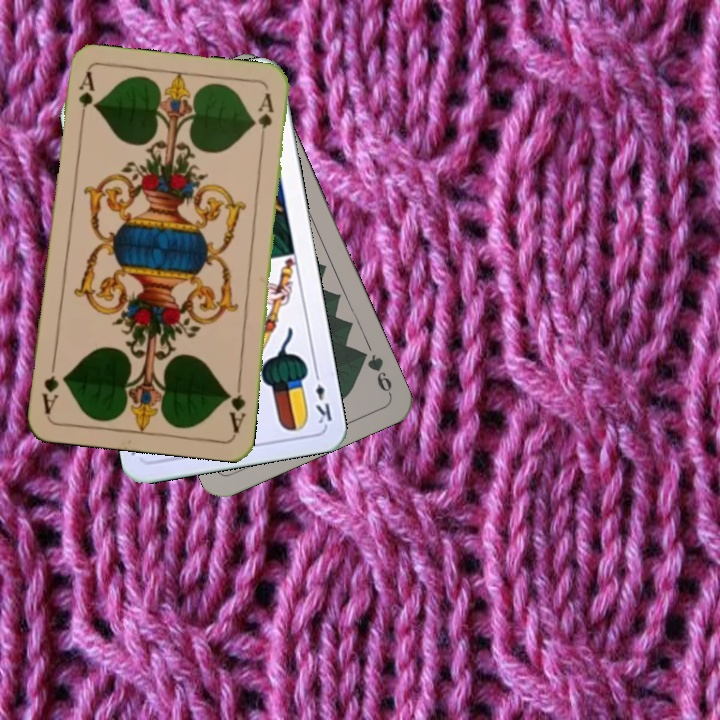EK: (310, 367, 335, 426)
G9: (354, 346, 395, 398)
GA: (223, 376, 249, 436), (74, 68, 97, 127)
